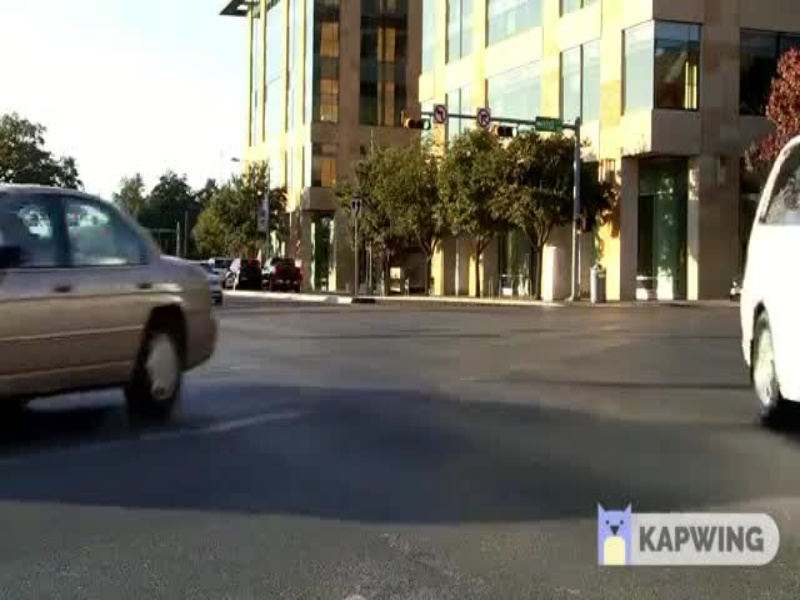car: (1, 176, 219, 429)
